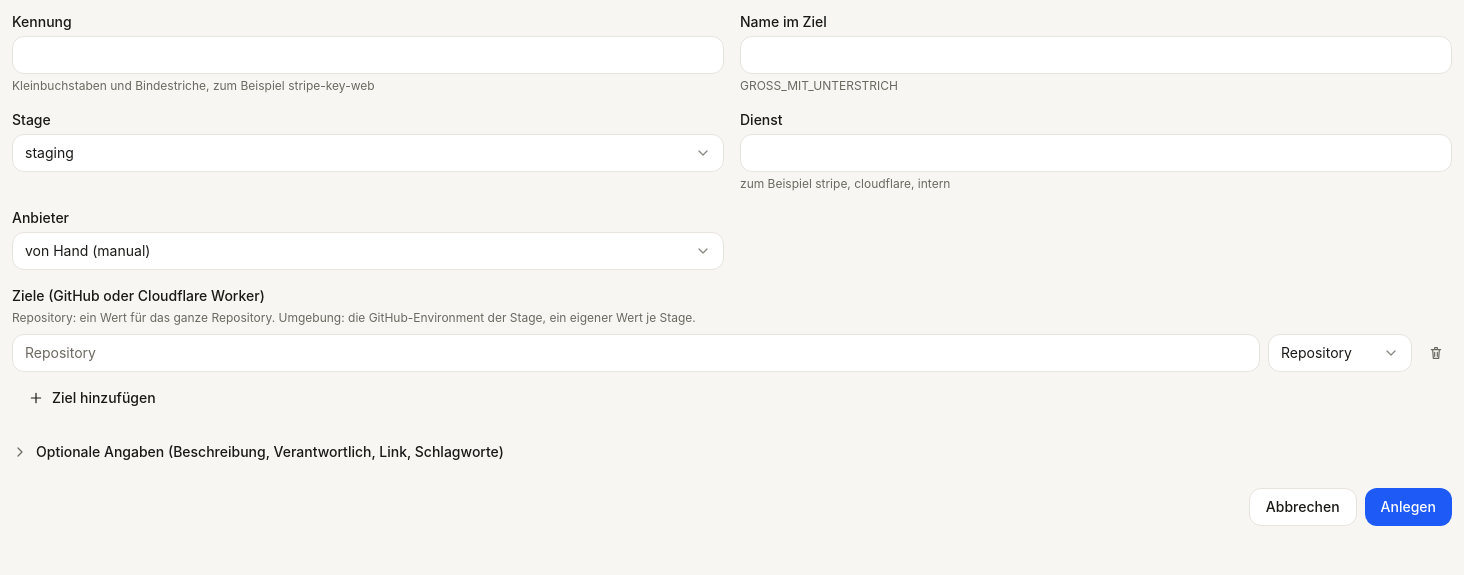
SecretForm manual entry › allows a dev entry without a target and explains it
Later steps or results of the test are not shown.
Expected: the text "dev-Einträge dürfen ohne Ziel angelegt werden." is not shown
Click the dropdown named "Stage".
click(49, 152)  # box [12,134,724,172]
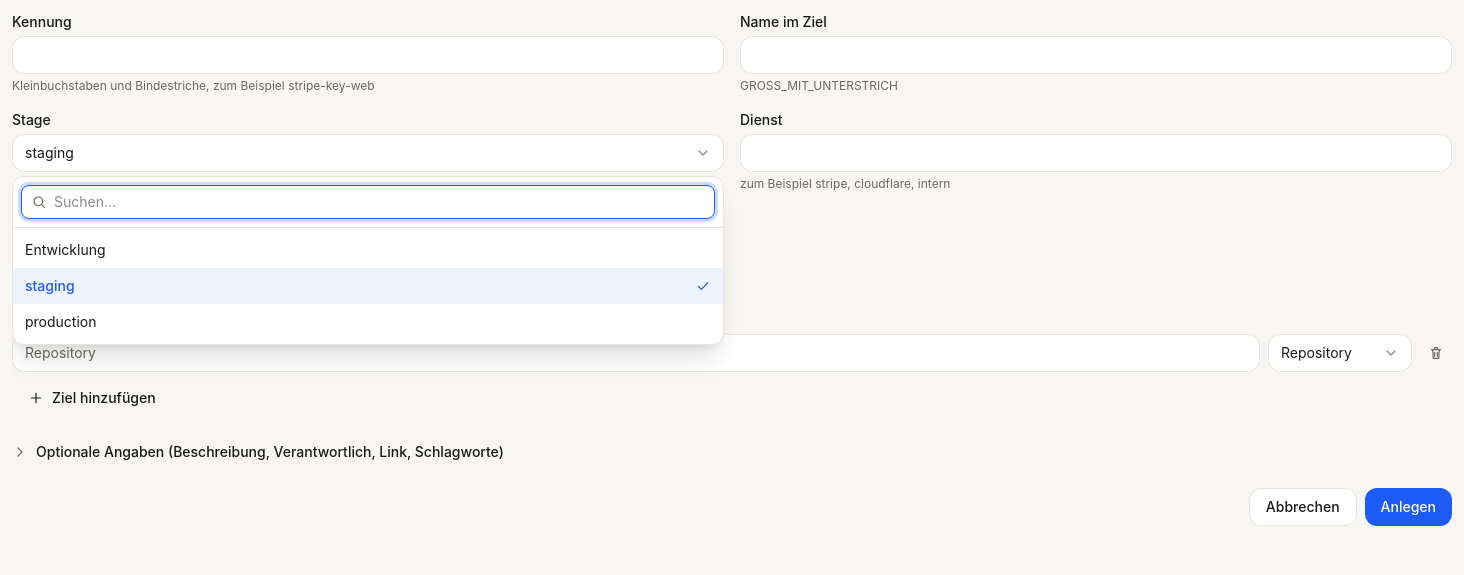
Click the option "Entwicklung".
click(65, 250)  # box [25,241,106,258]
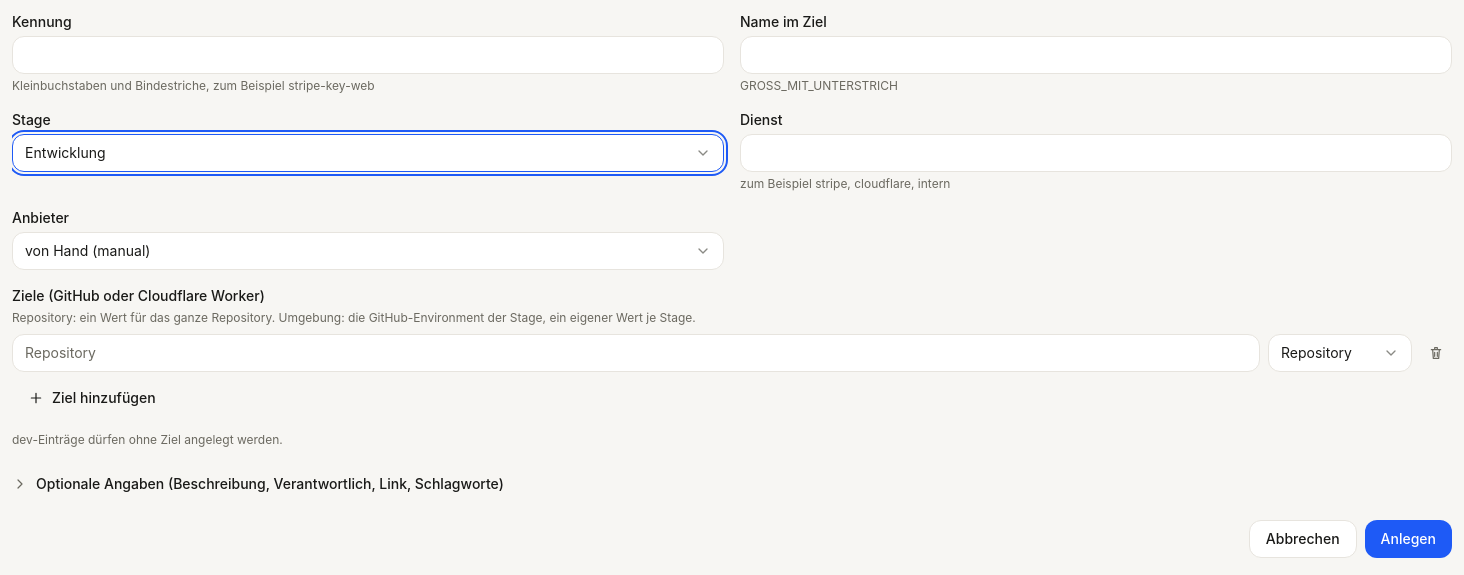
Expected: the text "dev-Einträge dürfen ohne Ziel angelegt werden." is shown, [12,432,283,447]
